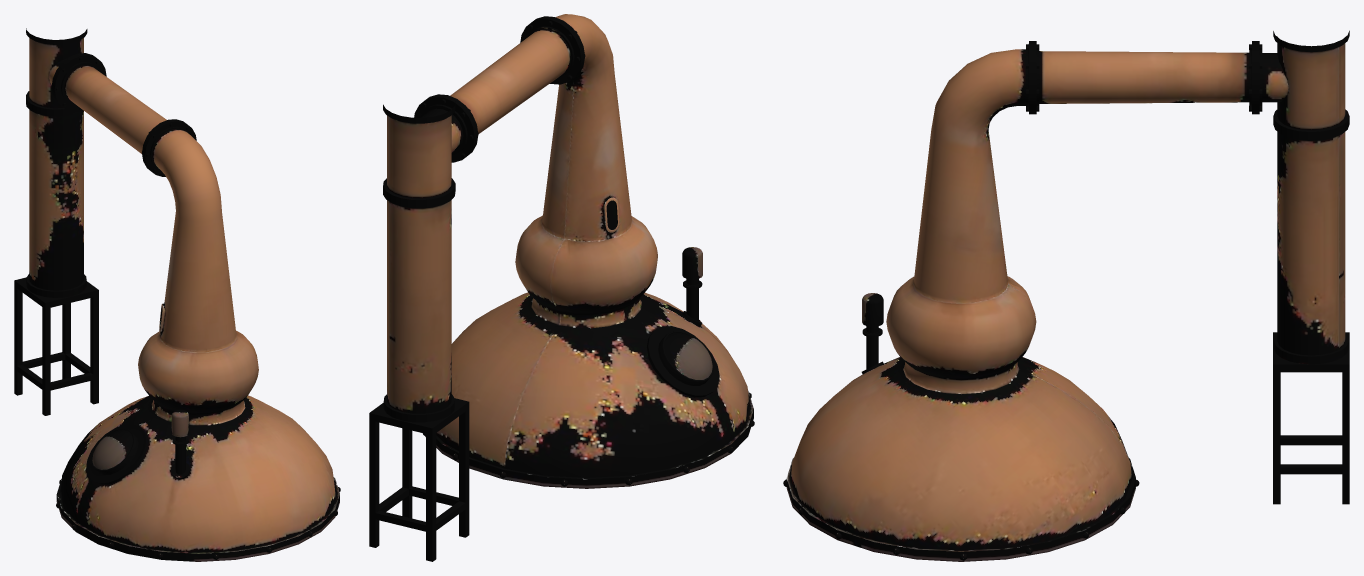
3 renders of one model, left to right at view 1: azimuth 30°, elevation 25°; view 2: azimuth 150°, elevation 25°; view 3: azimuth 270°, elevation 25°, orthographic. The views are drawn at different scales.
Parts seen in each view (by area): view 1: body0_model0_lod0_mesh0; view 2: body0_model0_lod0_mesh0; view 3: body0_model0_lod0_mesh0.
Part boxes in pixels (x1,y1,x2,y2): body0_model0_lod0_mesh0: (14,28,340,561); body0_model0_lod0_mesh0: (369,14,754,561); body0_model0_lod0_mesh0: (783,30,1349,561).
Bounding box in the file's own units: 261 × 370 × 414.
Materials: 1 (1 with a texture image).
